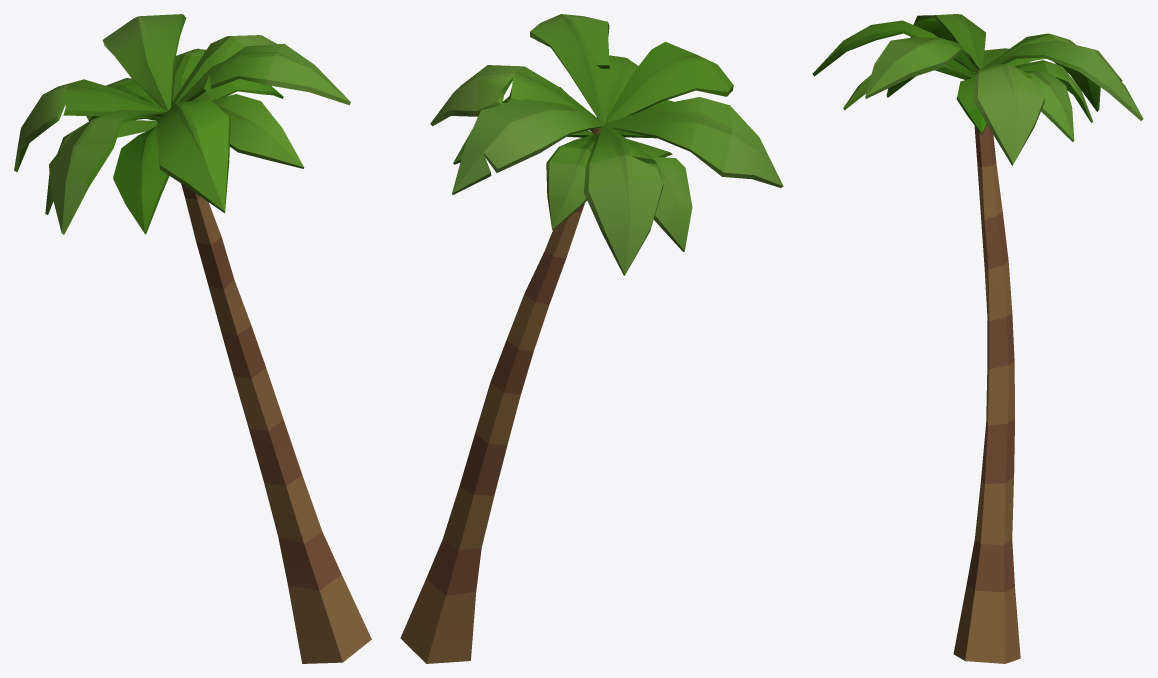
File: Anim_PalmTree_Colour.fbx
3 renders of one model, left to right at view 1: azimuth 30°, elevation 25°; view 2: azimuth 150°, elevation 25°; view 3: azimuth 270°, elevation 25°, orthographic. The views are drawn at different scales.
Parts seen in each view (by area): view 1: Anim_PalmTree_Colour; view 2: Anim_PalmTree_Colour; view 3: Anim_PalmTree_Colour.
Boxes of the visible parts, box(x1,y1,x2,y2) form: Anim_PalmTree_Colour: box(14, 14, 371, 663); Anim_PalmTree_Colour: box(400, 14, 783, 663); Anim_PalmTree_Colour: box(812, 14, 1143, 663).
Bounding box in the file's own units: 3.4 × 6.17 × 3.19.
